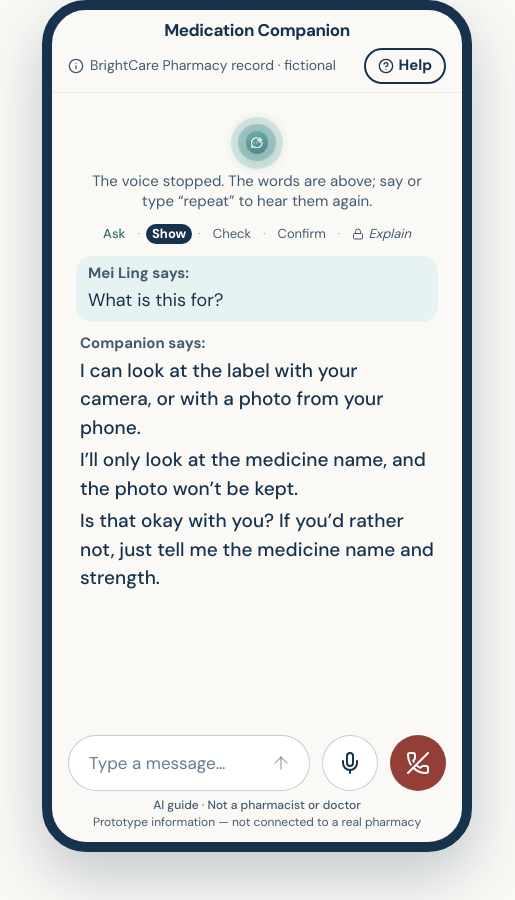
Scenario: in the call › no buttons on the question; a typed yes puts Take photo and Upload inside the companion's message
Expected: the text "I’ll only look at the medicine name, and the photo won’t be kept." is shown, [80, 447, 426, 500]
Type "ok?" into the field labelled "Type a message…". click: (171, 763)
box: [89, 736, 253, 790]
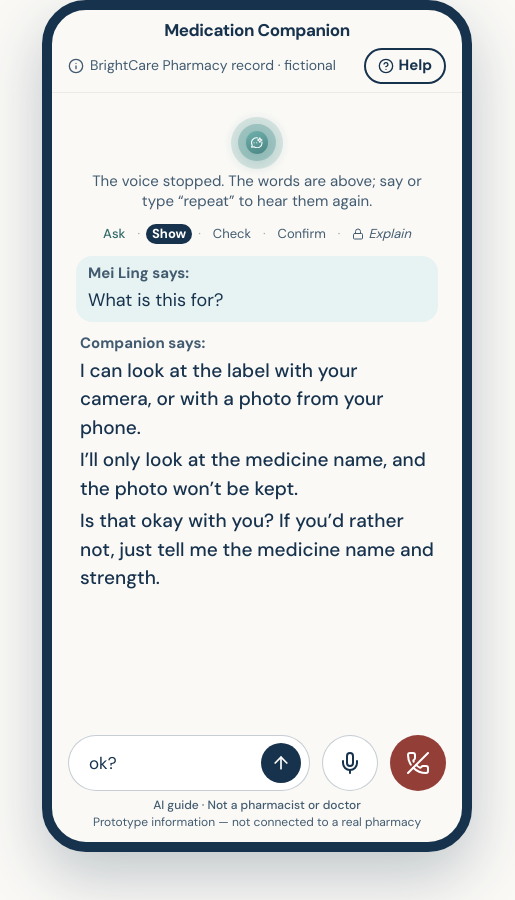
Submit the form named "type a message", box [68, 735, 310, 791]
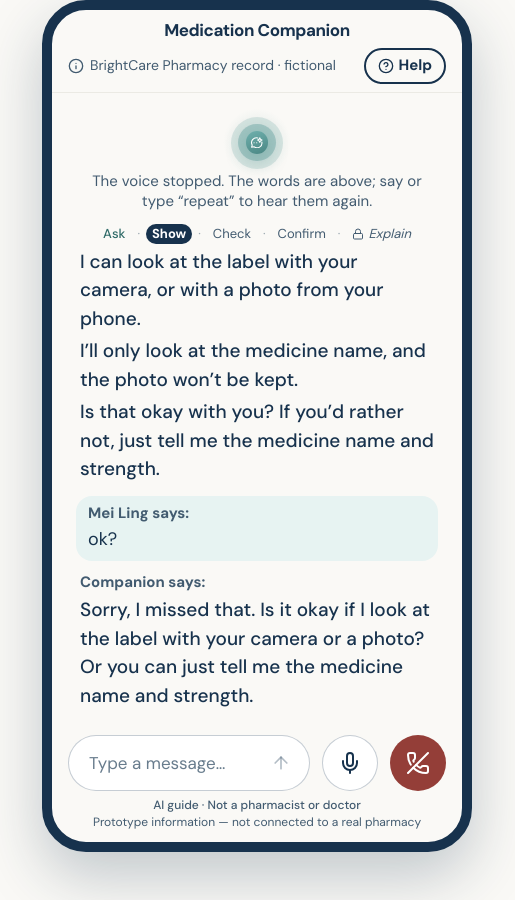
Type "yes" into the field labelled "Type a message…". click: (171, 763)
box: [89, 736, 253, 790]
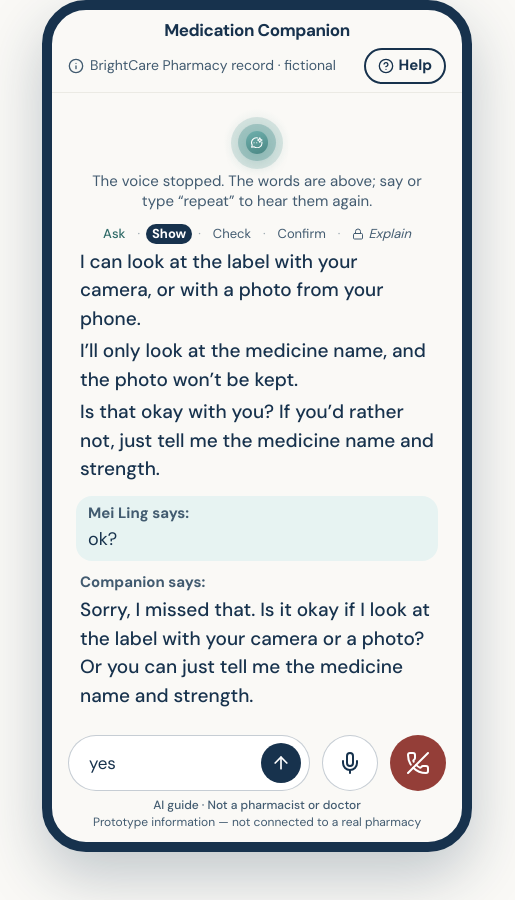
Submit the form named "type a message", box [68, 735, 310, 791]
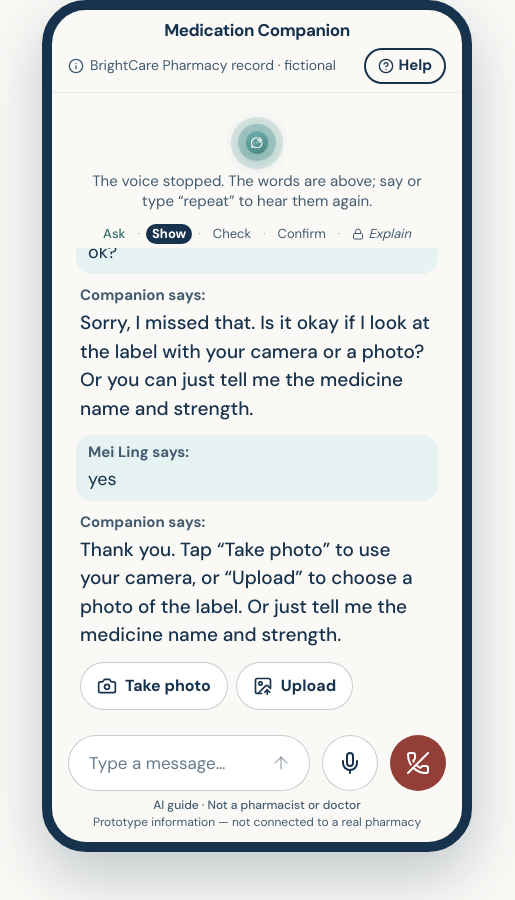
Now the element that starts with "Companion says:" shows "Thank you. Tap “Take photo” to use your camera, or “Upload” to choose a photo of the label. Or just tell me the medicine name and strength.", box [80, 536, 412, 647]
Now the buttons read "Take photo", "Upload", in this order, box [80, 662, 228, 710]; [236, 662, 353, 710]
